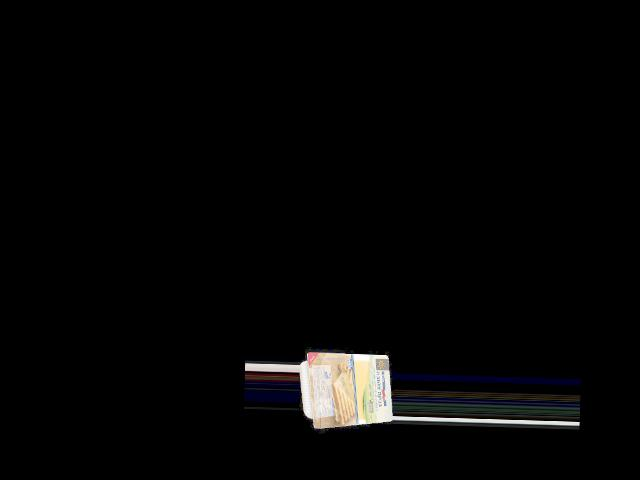cheese: (297, 355, 393, 428)
